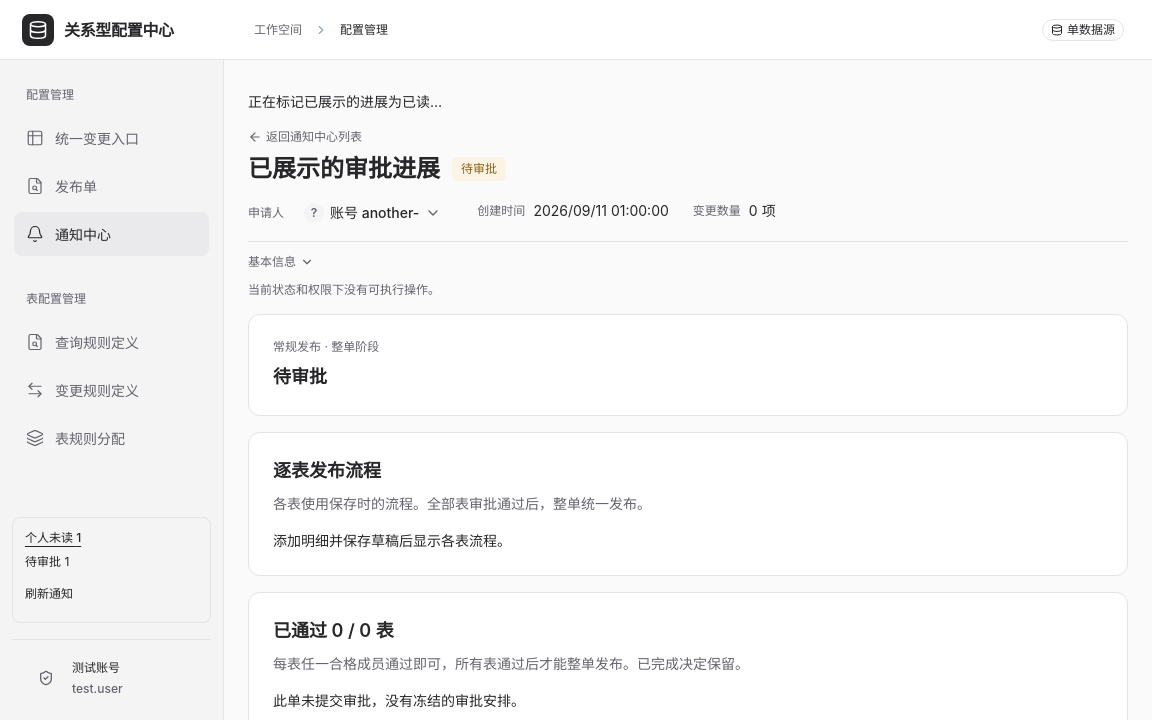
返回列表后才完成的已读确认仍更新当前账号计数和列表
Expected: the text "正在标记已展示的进展为已读…" is shown, [248, 93, 442, 110]
Step 1. Click the link "返回通知中心列表" → x=305, y=137, box [248, 129, 362, 145]
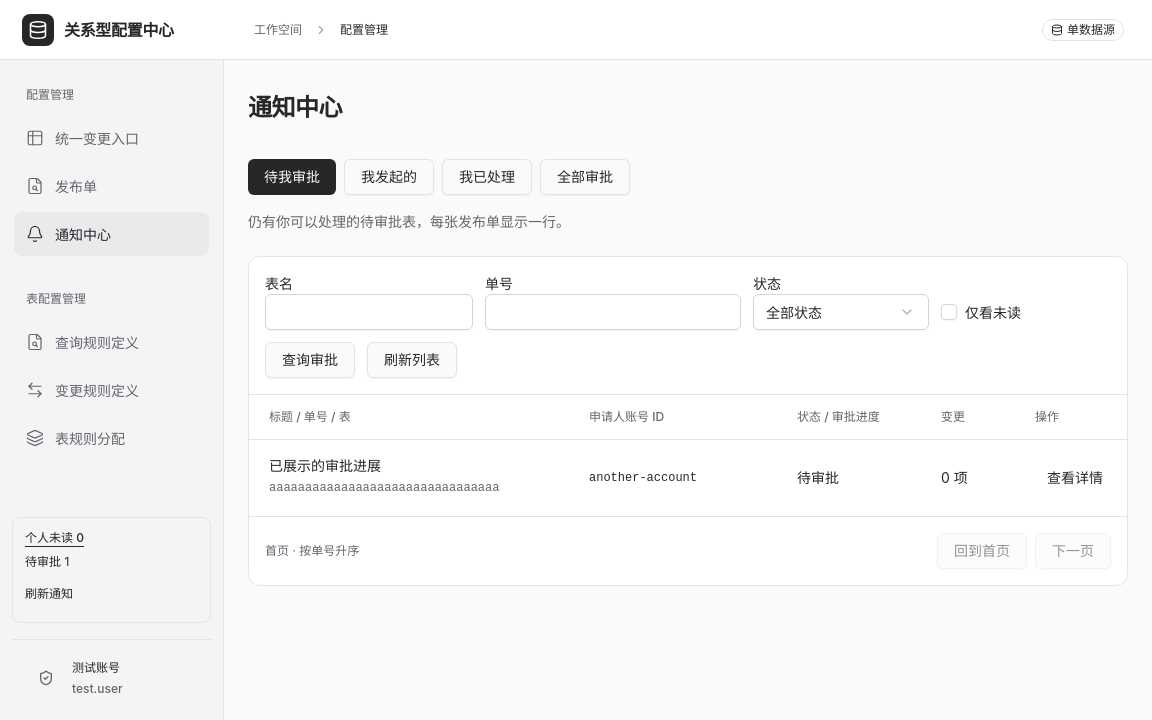
Result: the link "个人未读 0" is shown at [25, 530, 84, 545]
